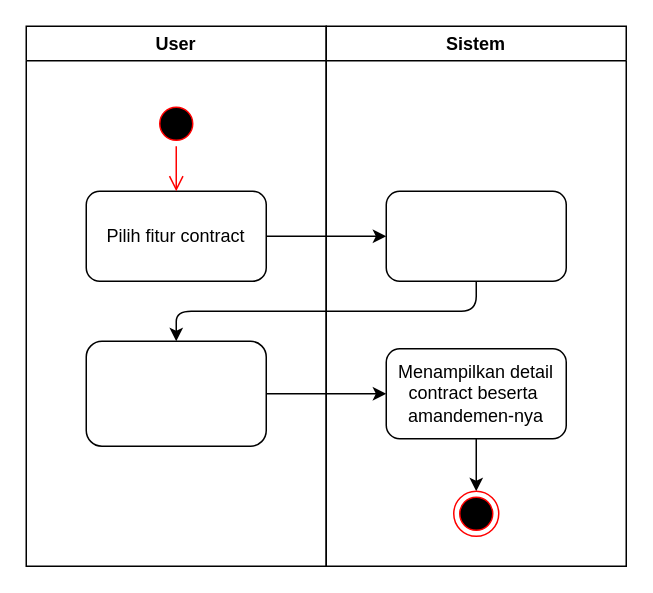
The diagram is 653 pixels wide and 593 high, and some of its shapes have lost their labels. The shapes that lost their labels are listed below. From the top down, each one's centre as x and y in pixels, then its label:
At point (475, 235): "Menampilkan halaman Contract".
At point (175, 393): "Tekan tombol setting (detail contract) pada salah satu data contract".
